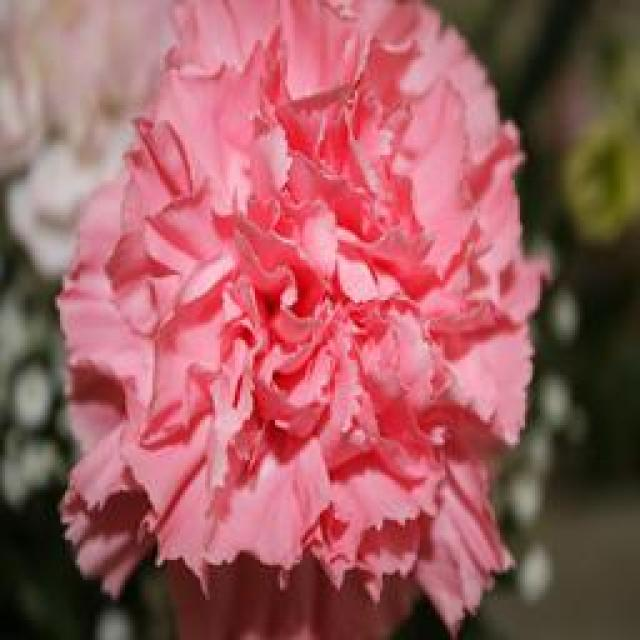carnation: (52, 0, 531, 640)
